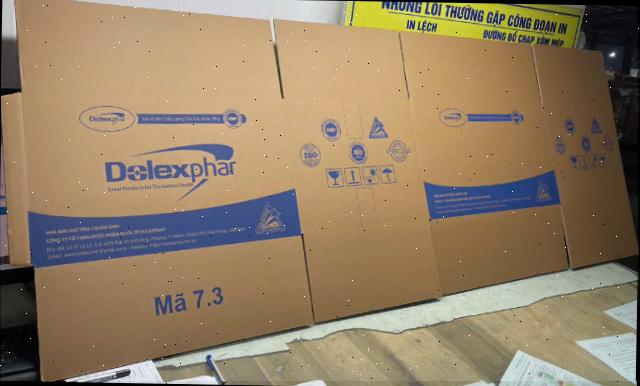box: (2, 0, 638, 381)
